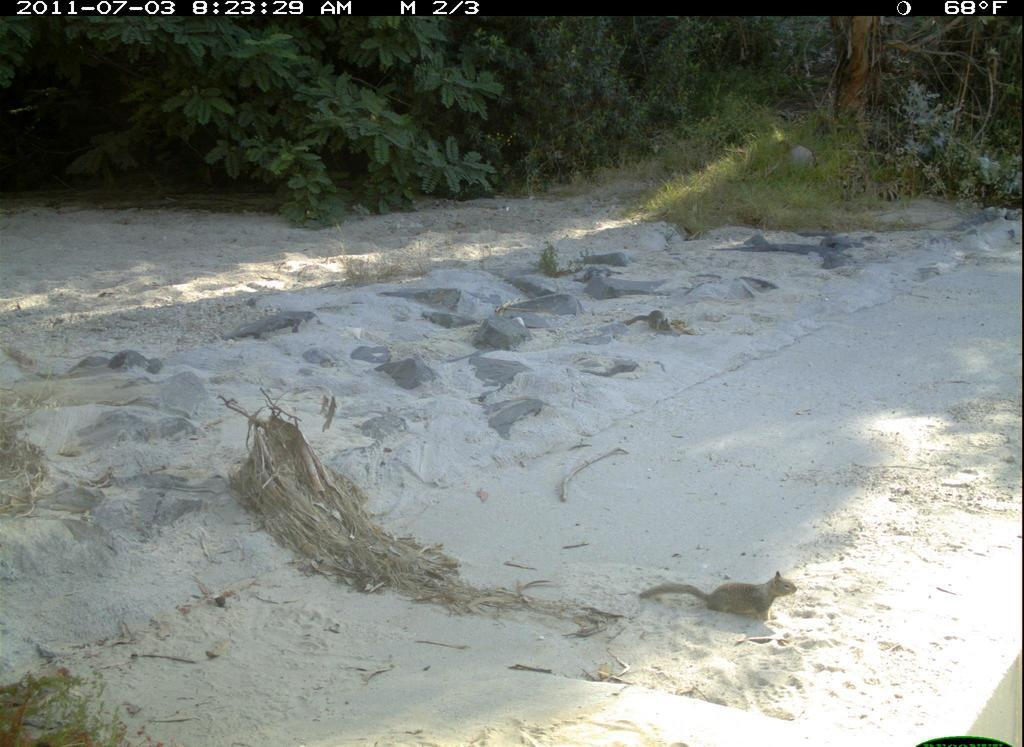squirrel: (632, 564, 808, 641)
